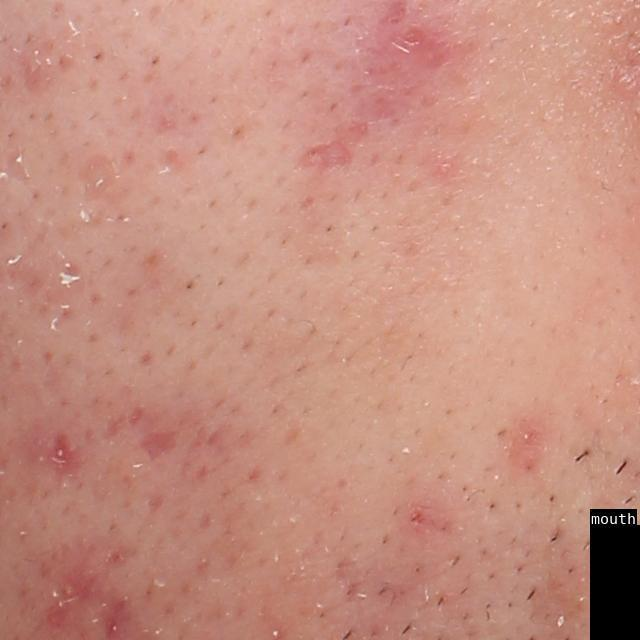atrophic_scar: (76, 152, 118, 207), (134, 427, 183, 471)
